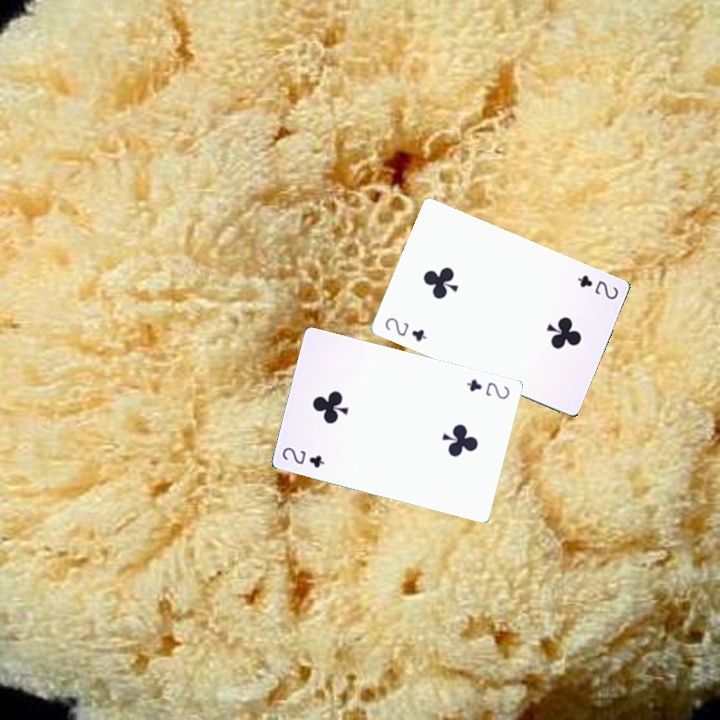2c: (381, 313, 429, 345), (573, 271, 621, 302), (462, 375, 512, 402), (278, 443, 327, 470)
